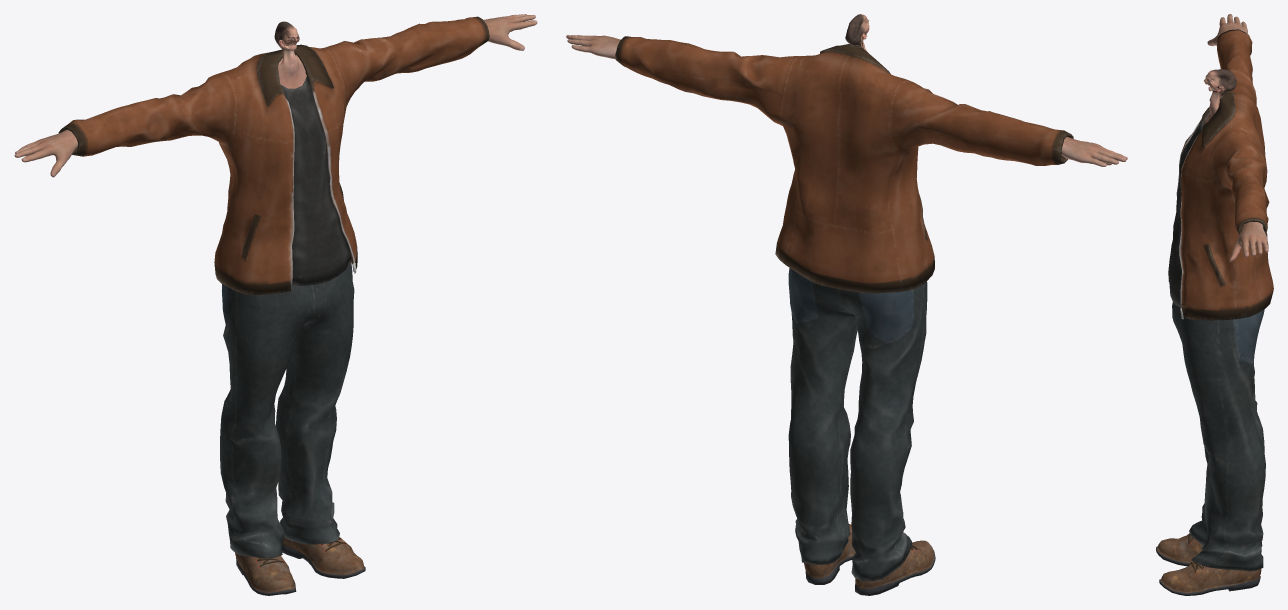
Rendered from Player 1_new.obj.
3 views of the same model, side by side, from view 1: azimuth 30°, elevation 25°; view 2: azimuth 150°, elevation 25°; view 3: azimuth 270°, elevation 25° (orthographic). The views are drawn at different scales.
Visible parts, largest first — view 1: Tops, Bottoms, Shoes, Body; view 2: Tops, Bottoms, Body, Shoes; view 3: Tops, Bottoms, Shoes, Body.
Part boxes in pixels (x1,y1,x2,y2): Tops: (58, 16, 489, 294); Bottoms: (220, 263, 354, 558); Shoes: (235, 537, 365, 595); Body: (14, 14, 537, 177); Tops: (615, 36, 1073, 293); Bottoms: (788, 268, 927, 581); Body: (566, 14, 1127, 166); Shoes: (804, 524, 935, 595); Tops: (1168, 29, 1273, 320); Bottoms: (1172, 302, 1265, 571); Shoes: (1156, 533, 1261, 595); Body: (1204, 14, 1268, 261).
Bounding box in the file's own units: 174 × 169 × 35.86.
1 material, 1 textured.
